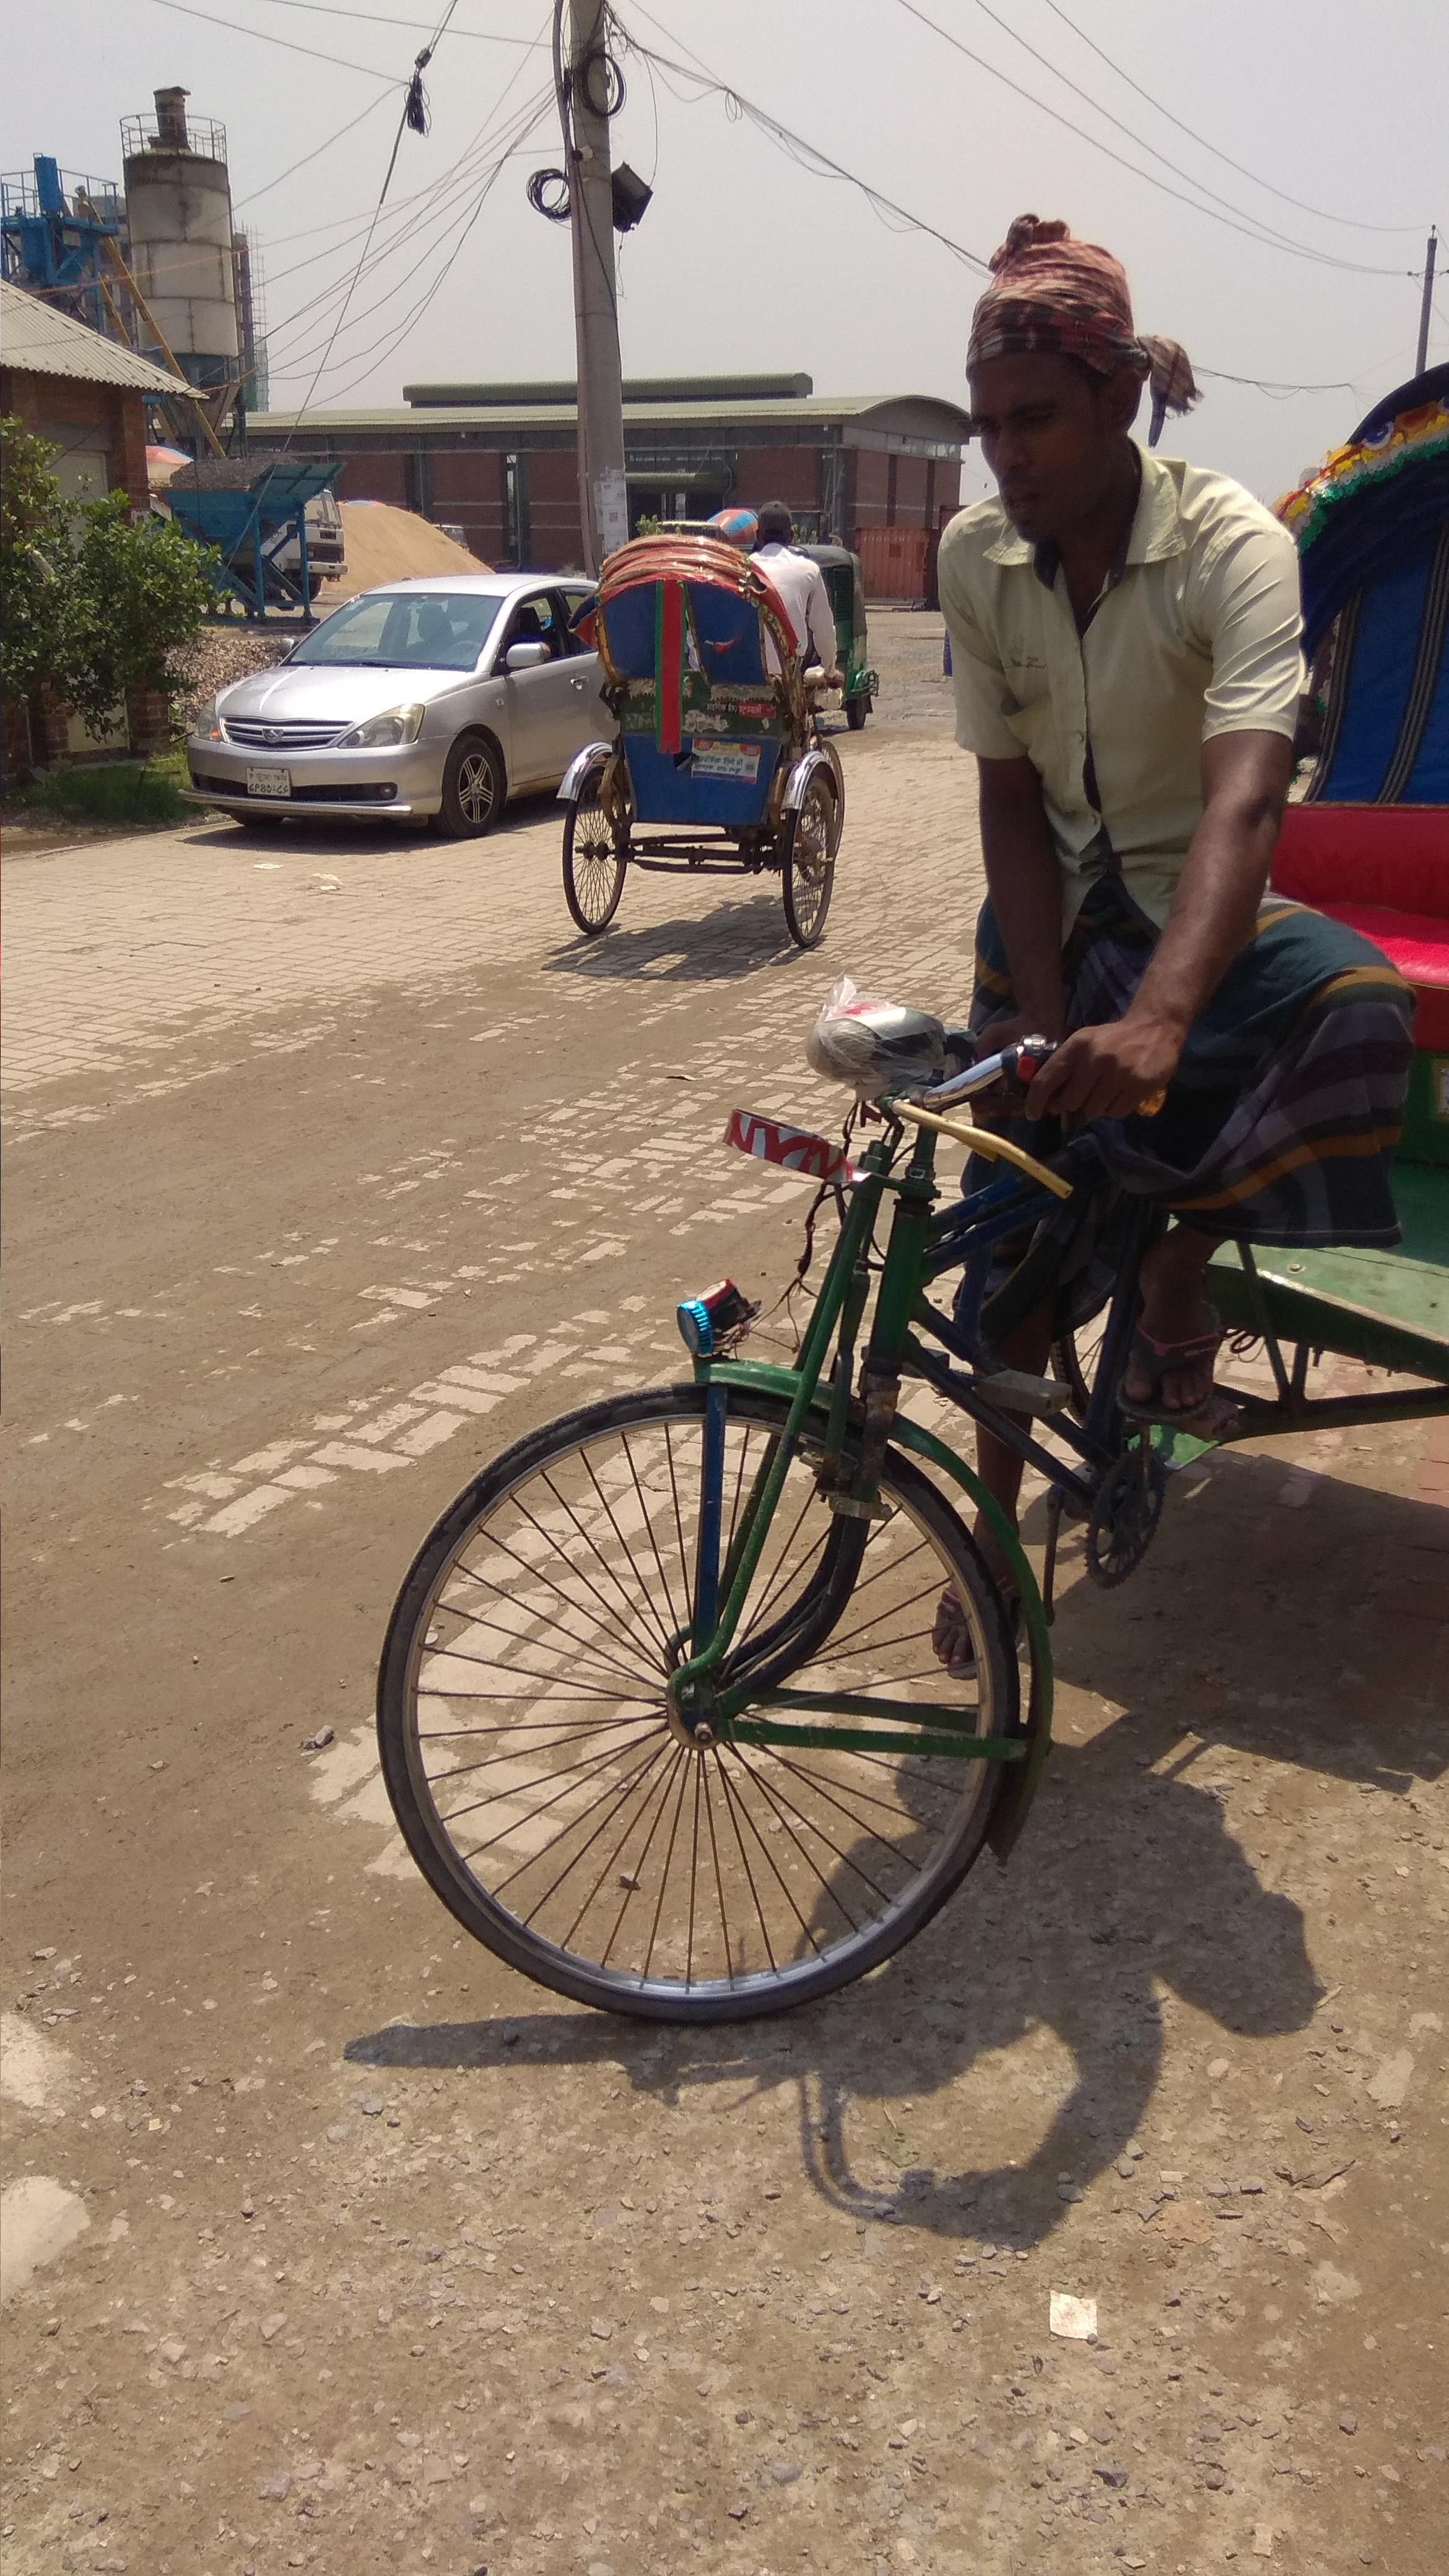Rickshaw: (432, 258, 1444, 2020), (533, 485, 844, 1007)
